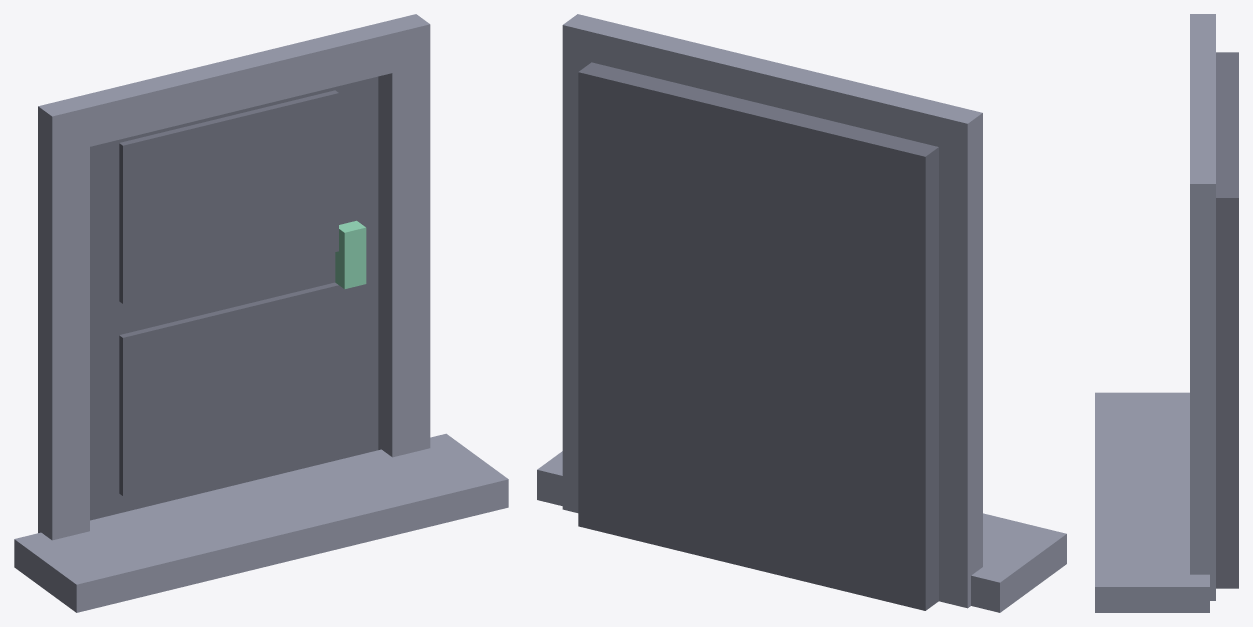
Rendered from door-classic.glb.
The picture shows the model from 3 angles, left to right: view 1: azimuth 30°, elevation 25°; view 2: azimuth 150°, elevation 25°; view 3: azimuth 270°, elevation 25°; orthographic projection. The views are drawn at different scales.
Visible parts, largest first — view 1: door-classic; view 2: door-classic; view 3: door-classic.
Boxes of the visible parts, x1=… form: door-classic: x1=14, y1=14, x2=508, y2=612; door-classic: x1=537, y1=14, x2=1066, y2=612; door-classic: x1=1095, y1=14, x2=1238, y2=612.
Size of the model in its own units: 0.8 by 0.8 by 0.25.
1 material, 1 textured.
